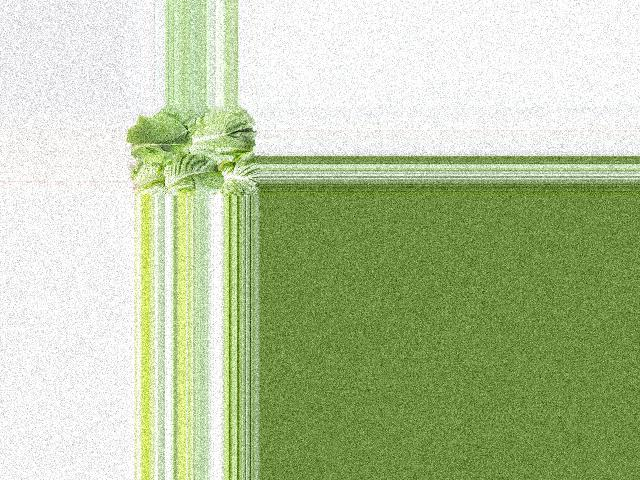lettuce: (129, 108, 256, 197)
